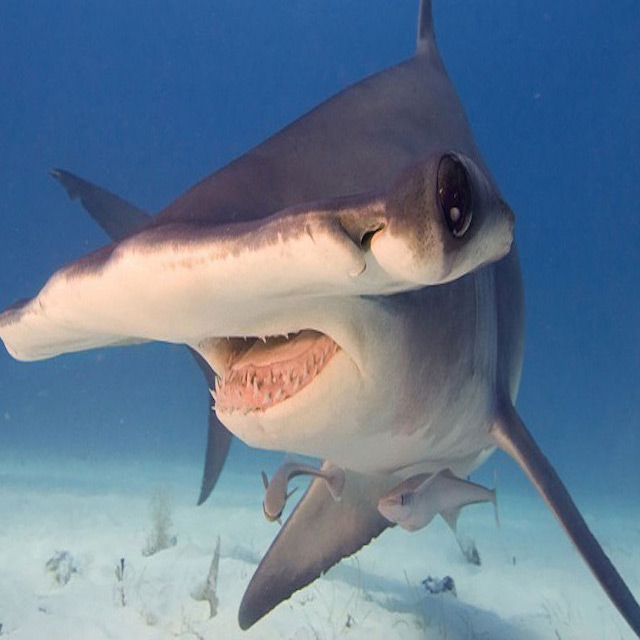hammerhead: (1, 89, 499, 451)
